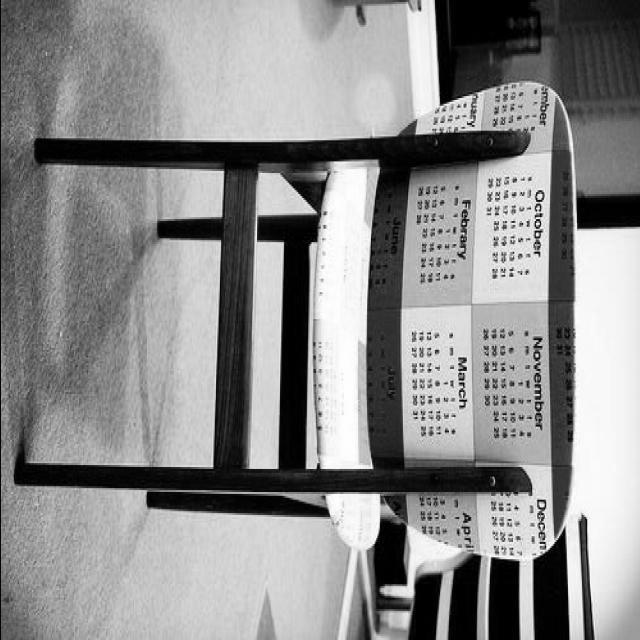chair: (14, 81, 580, 549)
